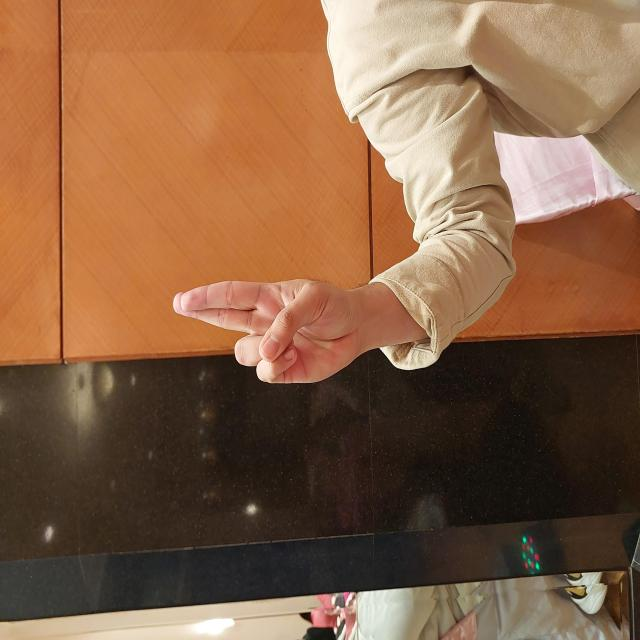R: (255, 170, 364, 370)
